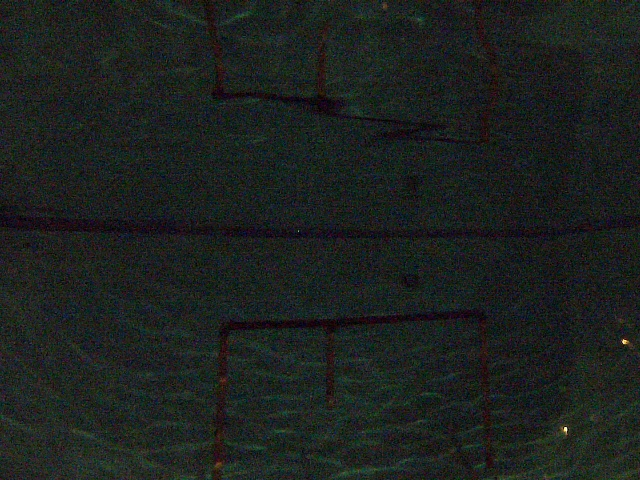Gate: (477, 323, 503, 478), (212, 328, 228, 480), (325, 329, 339, 412)
